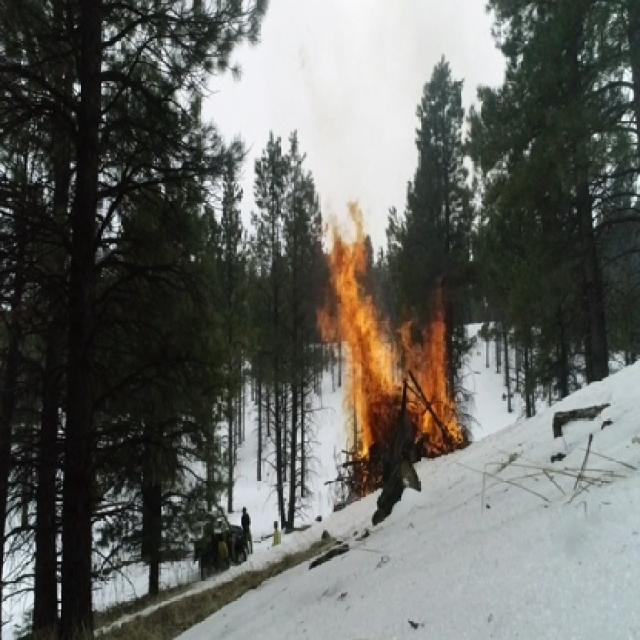Fire: (316, 197, 464, 461)
